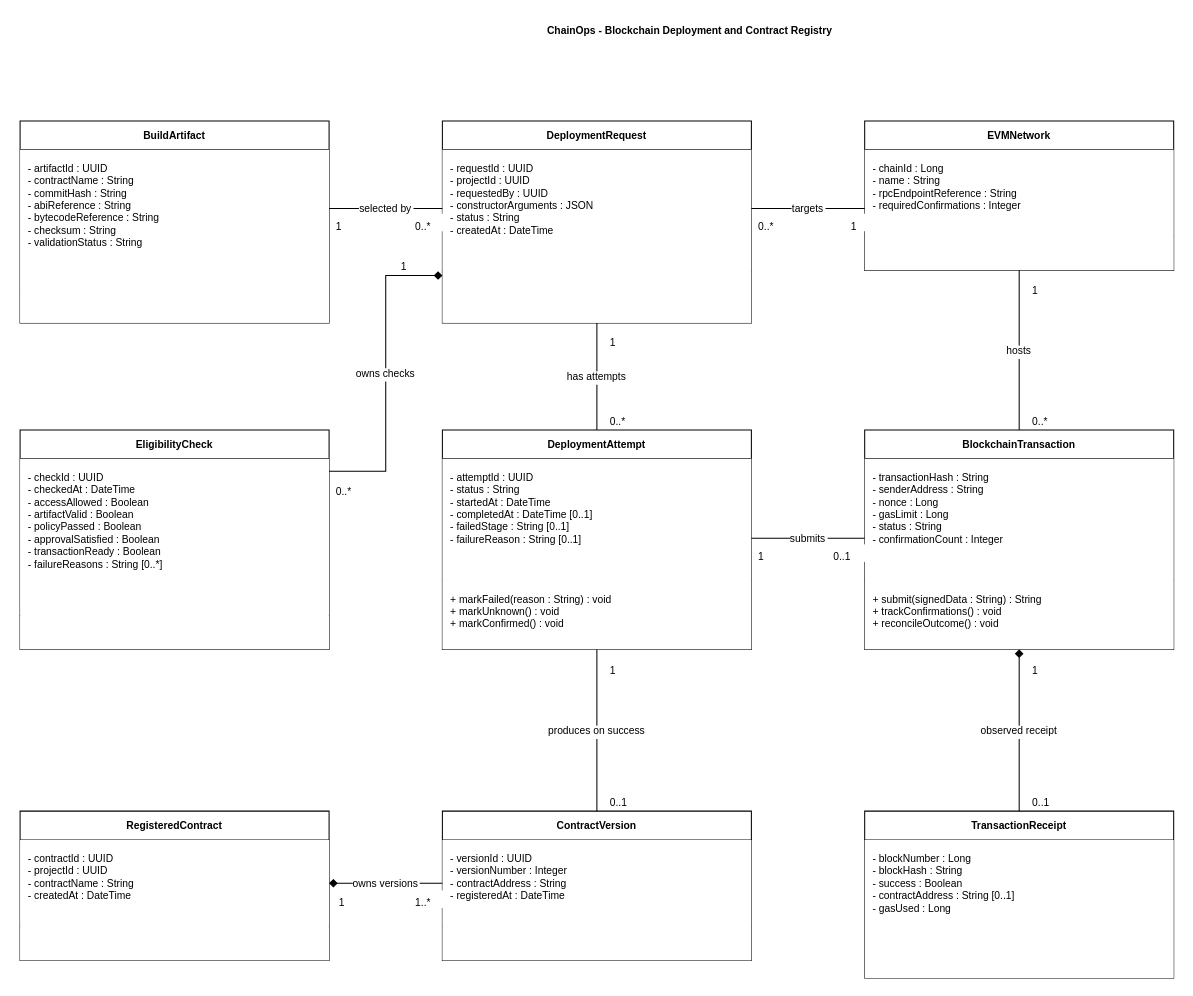
This 1193x996 diagram has some shape labels left out. Each missing label, with the centre of its shape:
+ checkConnection() : Boolean: the point at 1018,253
+ getDeployment() : DeploymentAttempt: the point at 596,943
+ getVersions() : ContractVersion [1..*]: the point at 174,943
+ isEligible() : Boolean: the point at 174,632
+ isSuccessful() : Boolean: the point at 1018,960
+ updateArguments(values : JSON) : void + markEligible() : void: the point at 596,296
+ verifyIntegrity() : Boolean: the point at 174,305
